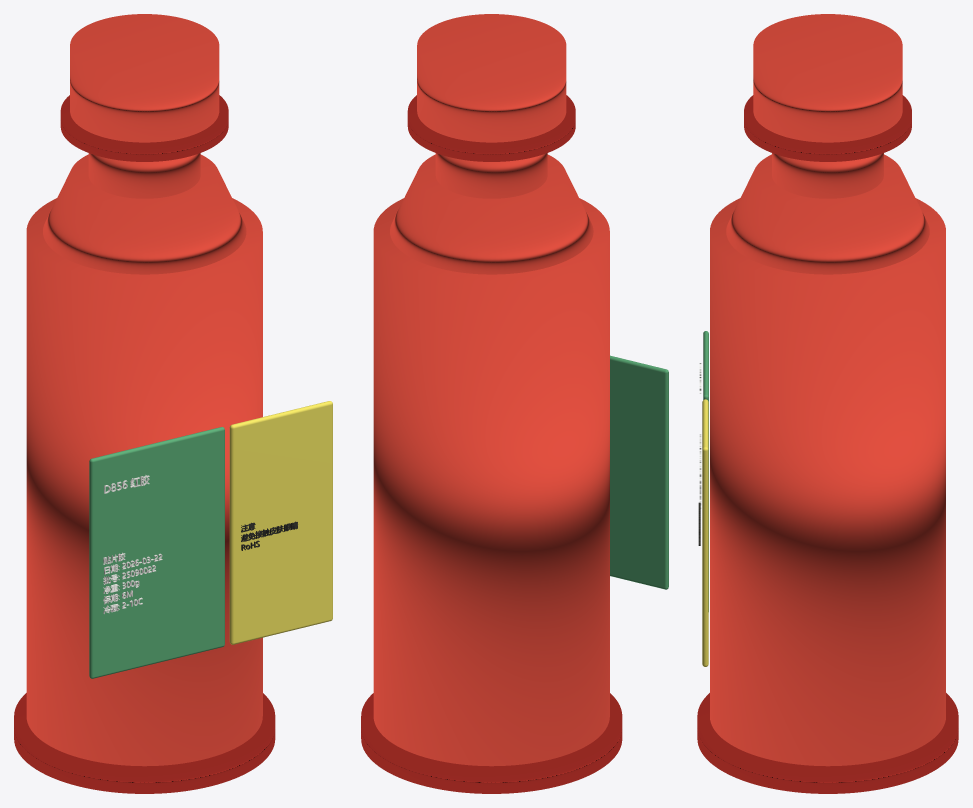
Rendered from smt-red-adhesive-label.glb.
3 views of the same model, side by side, from view 1: azimuth 30°, elevation 25°; view 2: azimuth 150°, elevation 25°; view 3: azimuth 270°, elevation 25° (orthographic).
Visible parts, largest first — view 1: red_adhesive_bottle_body, 贴合瓶身绿色中文标签, 贴合瓶身黄色警示卡片, bottle_cap, rounded_bottle_shoulder, bottom_lip, bottle_neck, cap_lip, 红胶详情_中文, 警示文字_中文; view 2: red_adhesive_bottle_body, bottle_cap, rounded_bottle_shoulder, 贴合瓶身绿色中文标签, bottom_lip, bottle_neck, cap_lip; view 3: red_adhesive_bottle_body, bottle_cap, rounded_bottle_shoulder, bottom_lip, bottle_neck, cap_lip, 贴合瓶身黄色警示卡片, 贴合瓶身绿色中文标签.
Part boxes in pixels (bbox=[...]): red_adhesive_bottle_body: bbox=[26, 198, 262, 766]; 贴合瓶身绿色中文标签: bbox=[89, 427, 224, 678]; 贴合瓶身黄色警示卡片: bbox=[229, 401, 332, 644]; bottle_cap: bbox=[70, 14, 219, 142]; rounded_bottle_shoulder: bbox=[43, 154, 246, 274]; bottom_lip: bbox=[14, 693, 275, 793]; bottle_neck: bbox=[88, 153, 200, 198]; cap_lip: bbox=[60, 95, 228, 161]; 红胶详情_中文: bbox=[103, 552, 162, 613]; 警示文字_中文: bbox=[241, 521, 297, 550]; red_adhesive_bottle_body: bbox=[373, 198, 609, 766]; bottle_cap: bbox=[417, 14, 566, 142]; rounded_bottle_shoulder: bbox=[390, 154, 593, 274]; 贴合瓶身绿色中文标签: bbox=[610, 355, 668, 589]; bottom_lip: bbox=[361, 693, 622, 793]; bottle_neck: bbox=[435, 153, 547, 198]; cap_lip: bbox=[407, 95, 575, 161]; red_adhesive_bottle_body: bbox=[710, 198, 945, 766]; bottle_cap: bbox=[753, 14, 902, 142]; rounded_bottle_shoulder: bbox=[726, 154, 929, 274]; bottom_lip: bbox=[697, 693, 958, 793]; bottle_neck: bbox=[772, 153, 883, 198]; cap_lip: bbox=[744, 95, 911, 161]; 贴合瓶身黄色警示卡片: bbox=[702, 399, 708, 666]; 贴合瓶身绿色中文标签: bbox=[703, 331, 708, 611].
Bounding box in the file's own units: 0.9 × 2.46 × 0.84.
